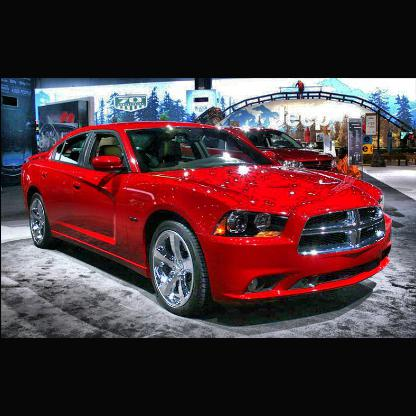Dodge Charger Sedan 2012: (19, 119, 397, 321)
